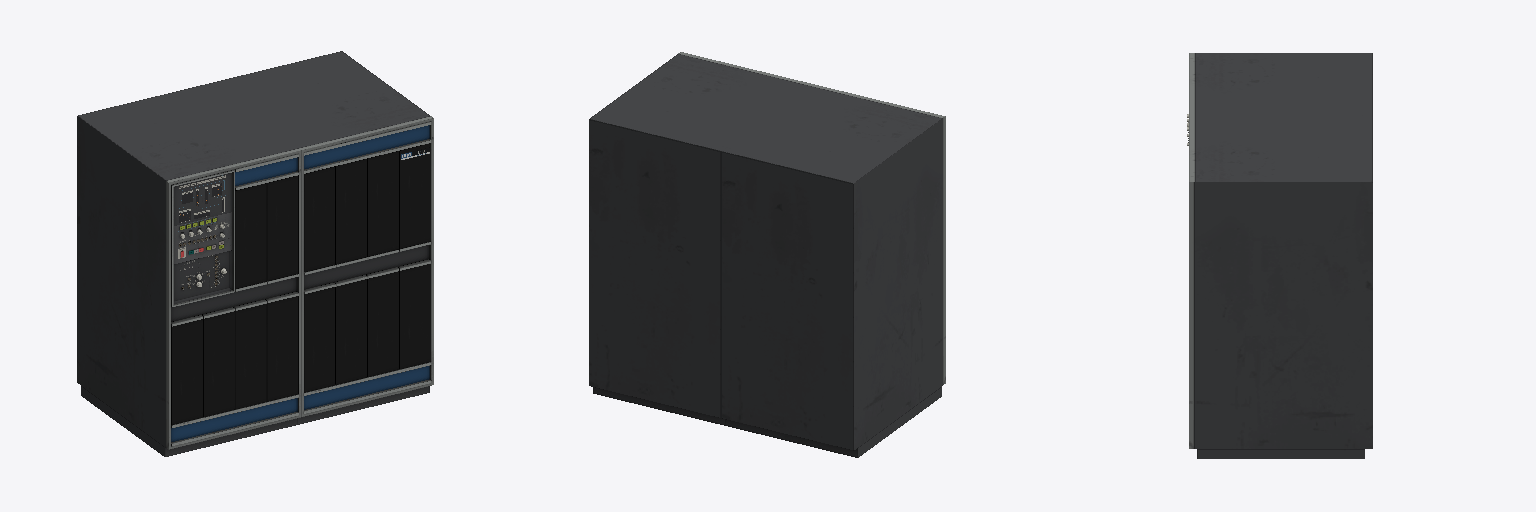
3 renders of one model, left to right at view 1: azimuth 30°, elevation 25°; view 2: azimuth 150°, elevation 25°; view 3: azimuth 270°, elevation 25°, orthographic.
Parts seen in each view (by area): view 1: ibm_1401; view 2: ibm_1401; view 3: ibm_1401.
Boxes of the visible parts, box(x1,y1,x2,y2) form: ibm_1401: box(77, 51, 433, 456); ibm_1401: box(589, 52, 945, 457); ibm_1401: box(1187, 53, 1372, 458).
Bounding box in the file's own units: 80 × 80 × 48.6.
1 materials, 1 textured.